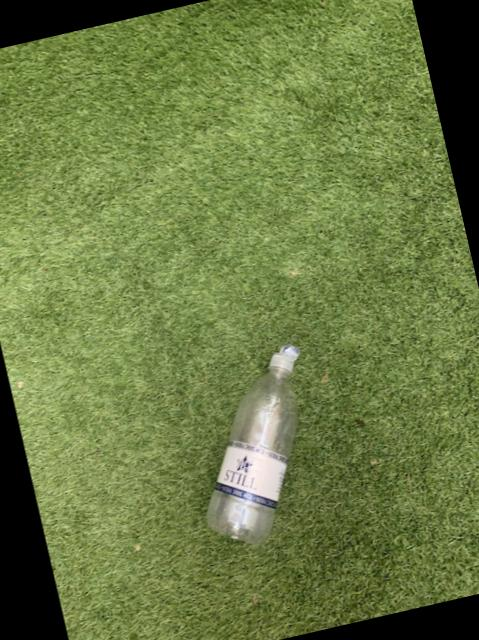plastic: (204, 344, 296, 541)
